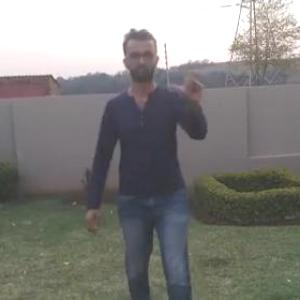land_hand: (163, 59, 205, 108)
